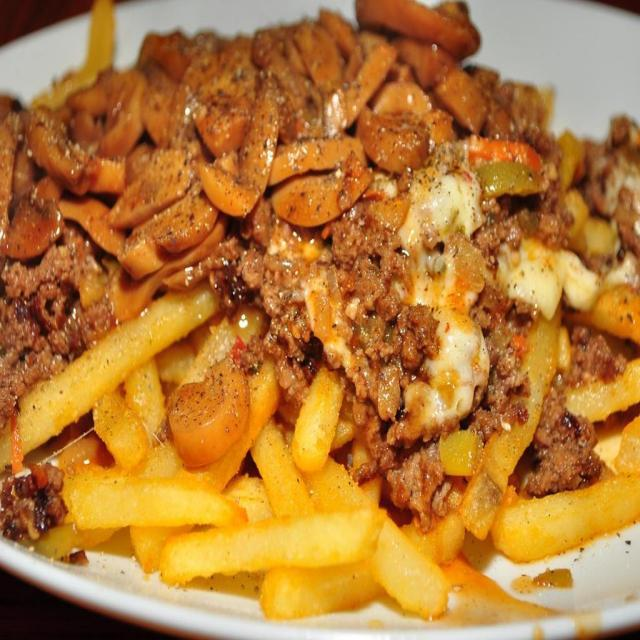French fries: (40, 321, 438, 624)
